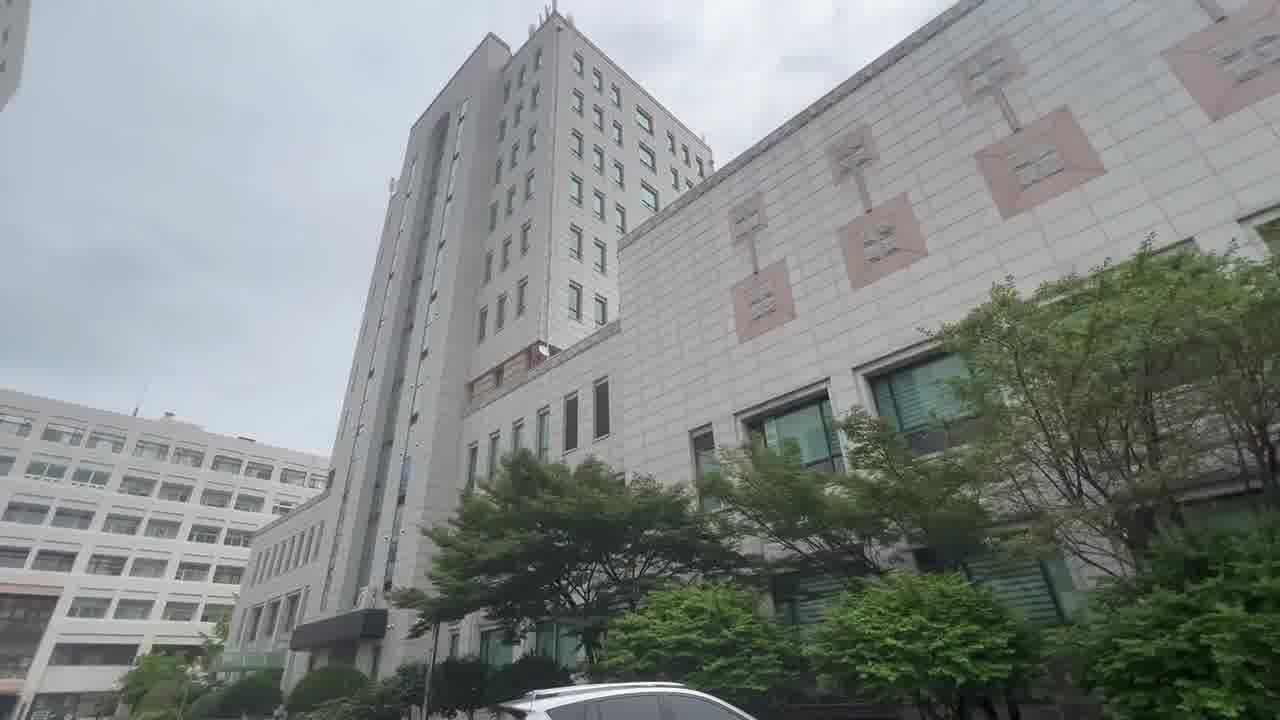building: (352, 1, 946, 421)
